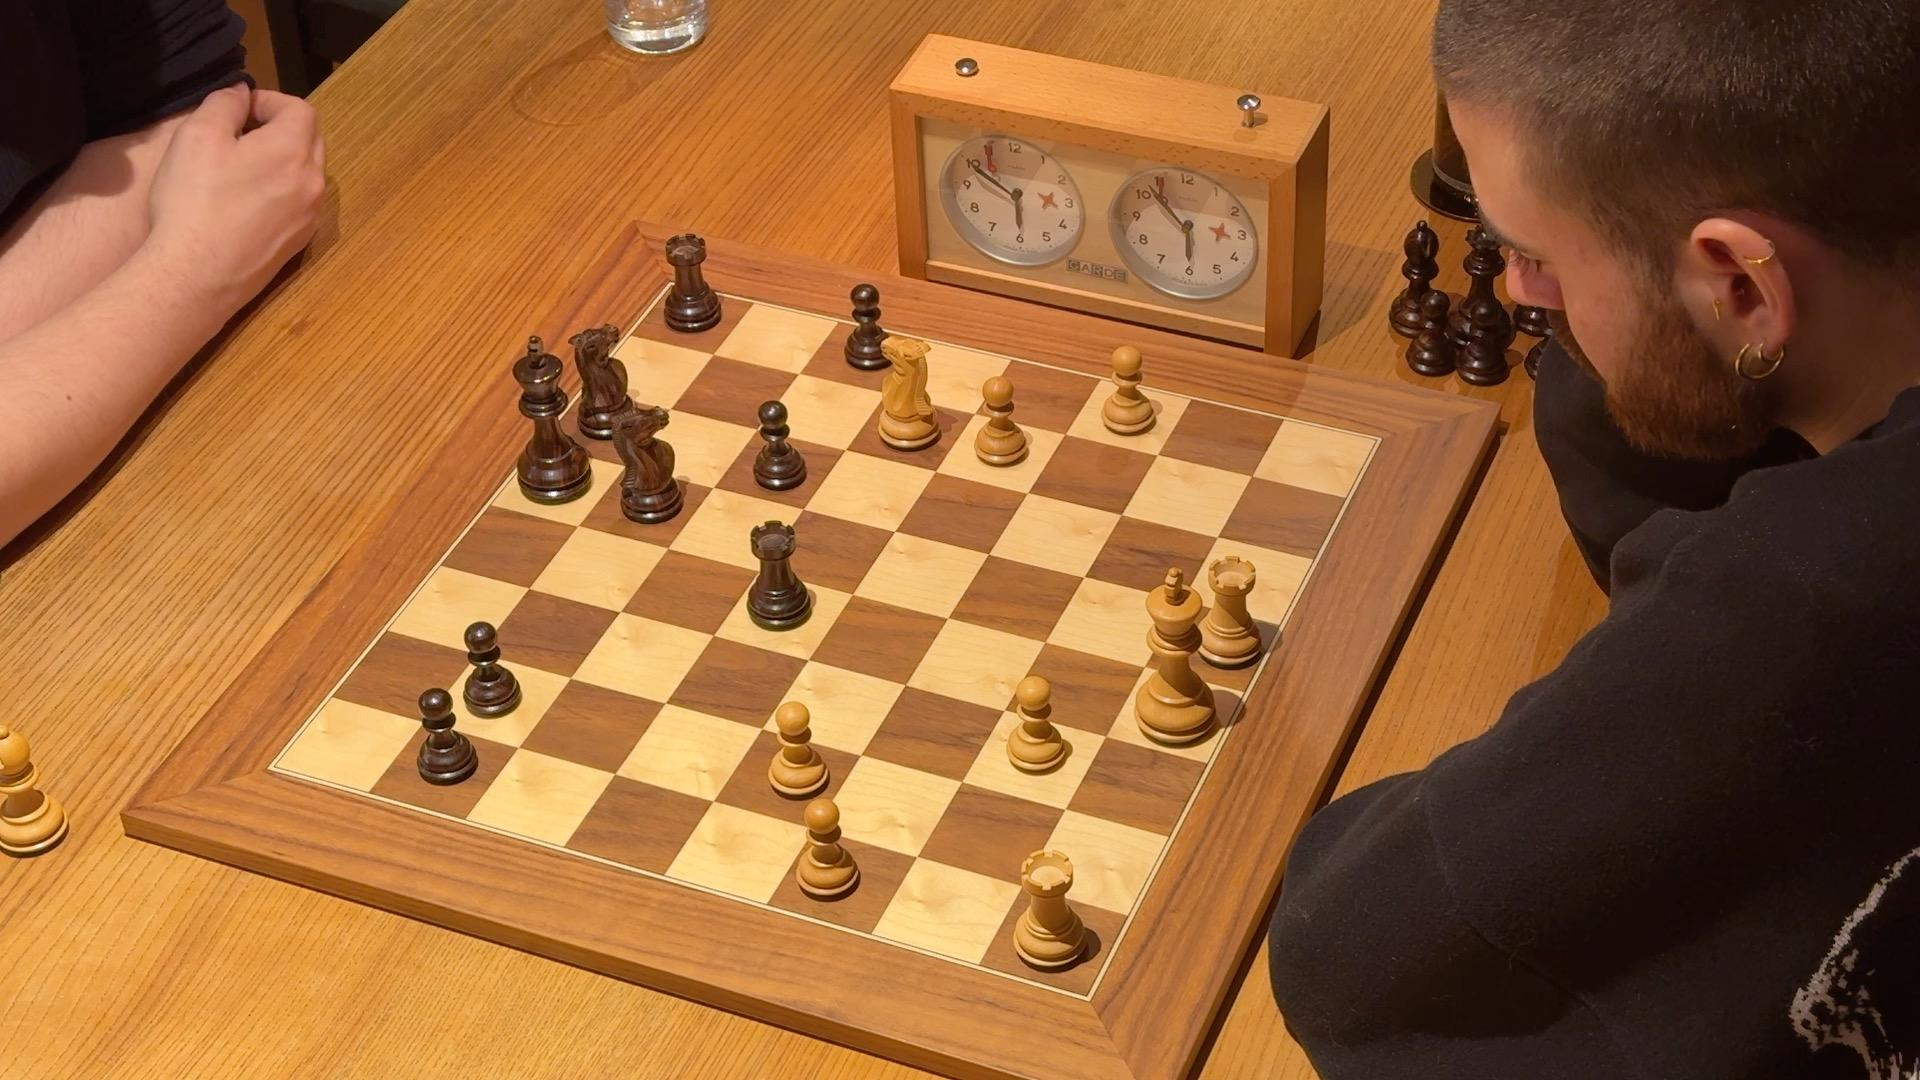Black King: (502, 334, 596, 513)
Black Knight: (608, 405, 688, 526), (568, 320, 645, 444)
Black Pawn: (414, 683, 484, 793), (460, 618, 529, 723), (749, 397, 807, 492), (841, 278, 894, 372)
Black Rook: (744, 516, 815, 633), (659, 229, 725, 335)
White King: (1125, 560, 1230, 752)
White Knight: (864, 326, 945, 456)
White Pawn: (790, 793, 866, 909), (762, 691, 832, 802), (1004, 670, 1071, 781), (1097, 340, 1160, 439), (971, 373, 1030, 469)
White Rook: (1011, 845, 1095, 980), (1196, 553, 1267, 667)
